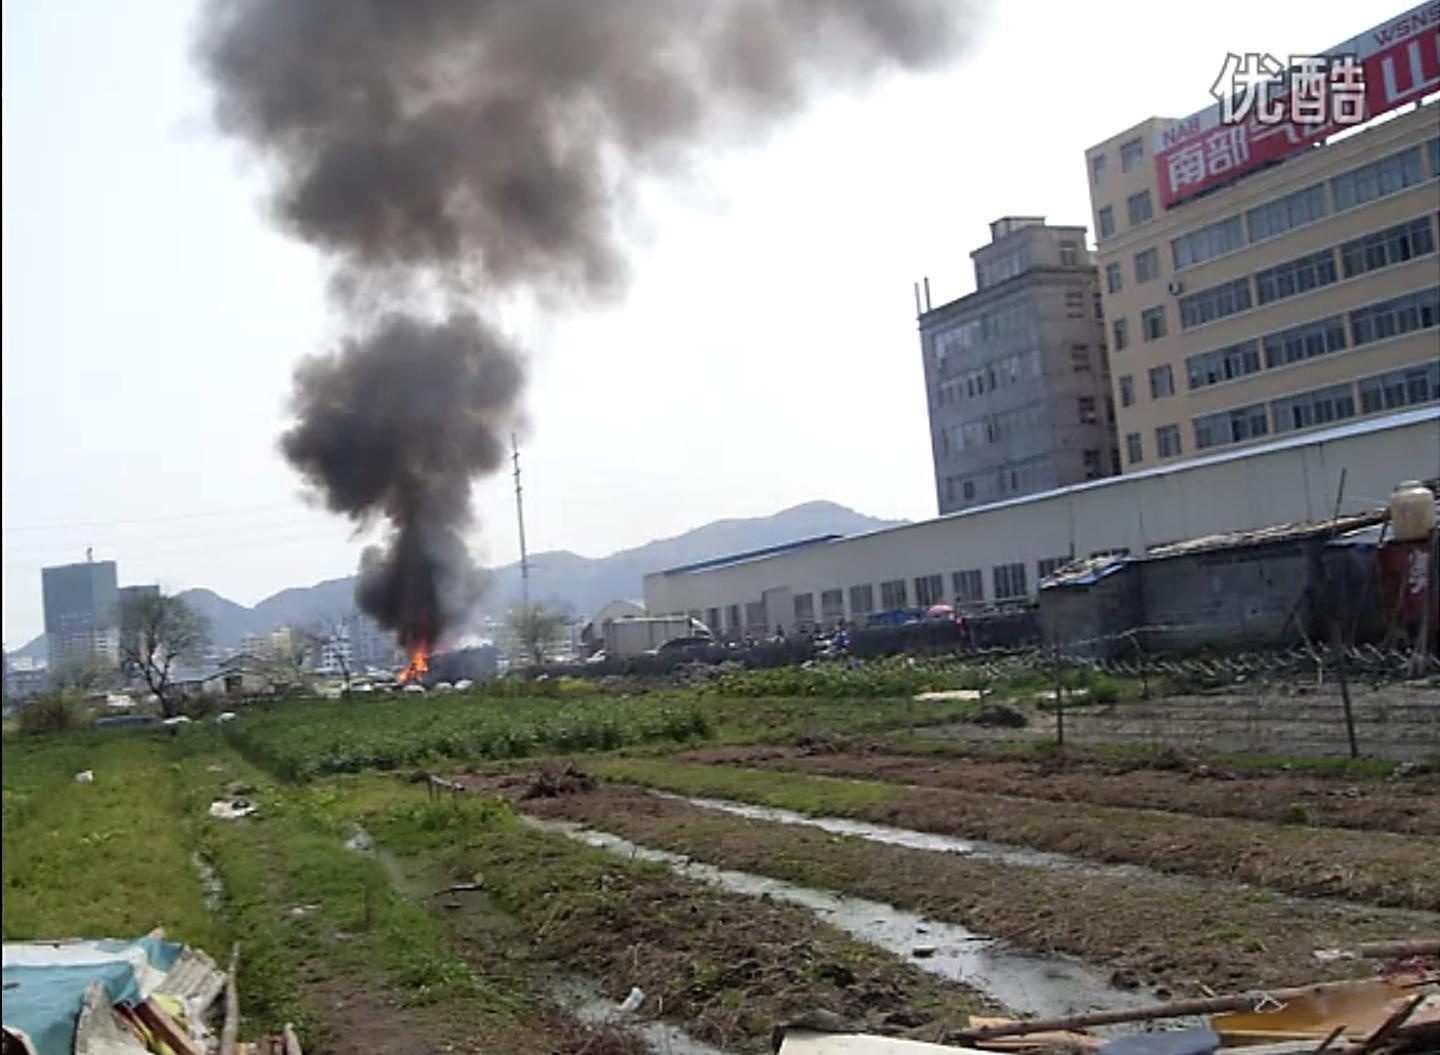fire: (394, 636, 434, 682)
